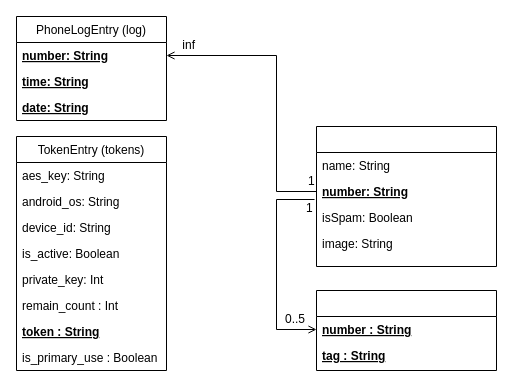
The diagram is 513 pixels wide and 387 high, and some of its shapes have lost their labels. The shapes that lost their labels are listed below. From the top down, each one's box as (x1, y1, x2, y2) in pixels, then its label:
(316, 126, 496, 266): PhoneInfoEntry (info)
(316, 290, 496, 370): PhoneLogTagsEntry (tags)
